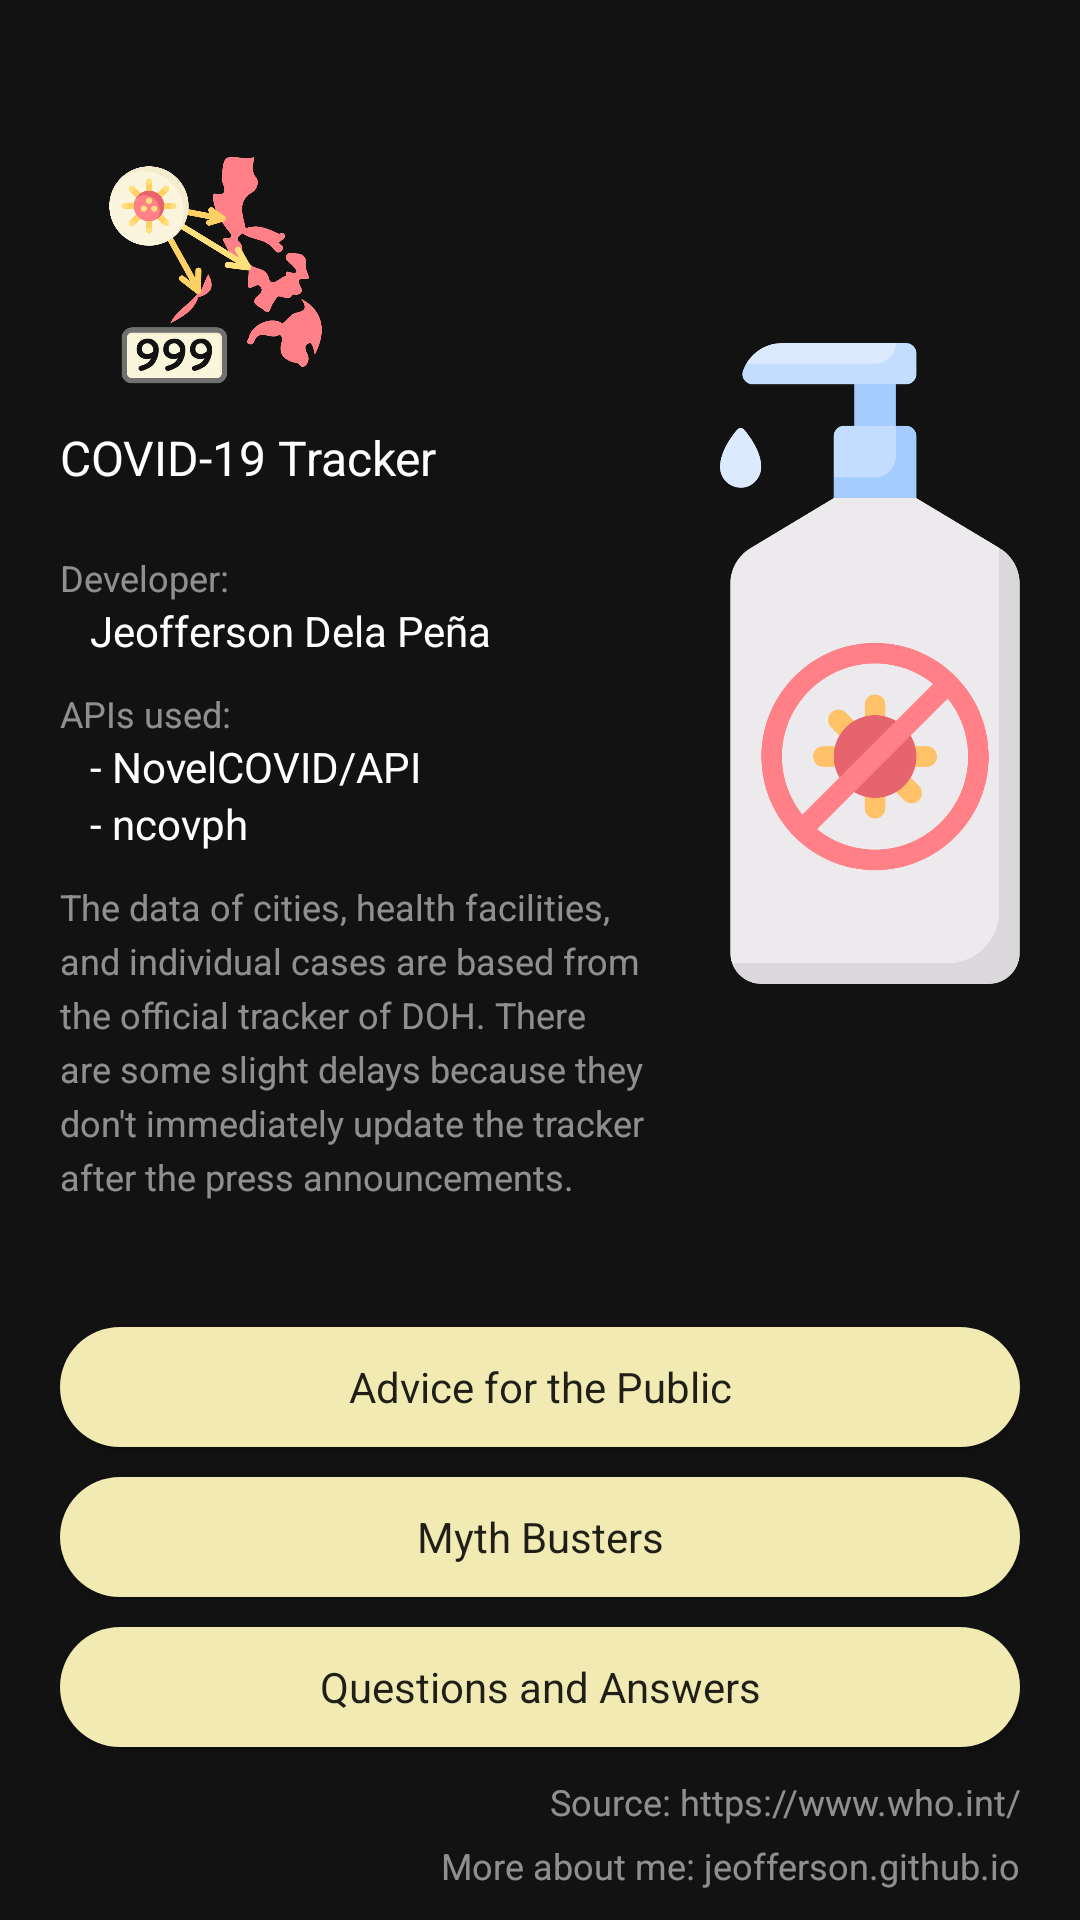

Locate icon controls on the screen. Image size 1080px x 1920px, boxes as (x1, y1, x2, y2).
app: (109, 157, 322, 383)
